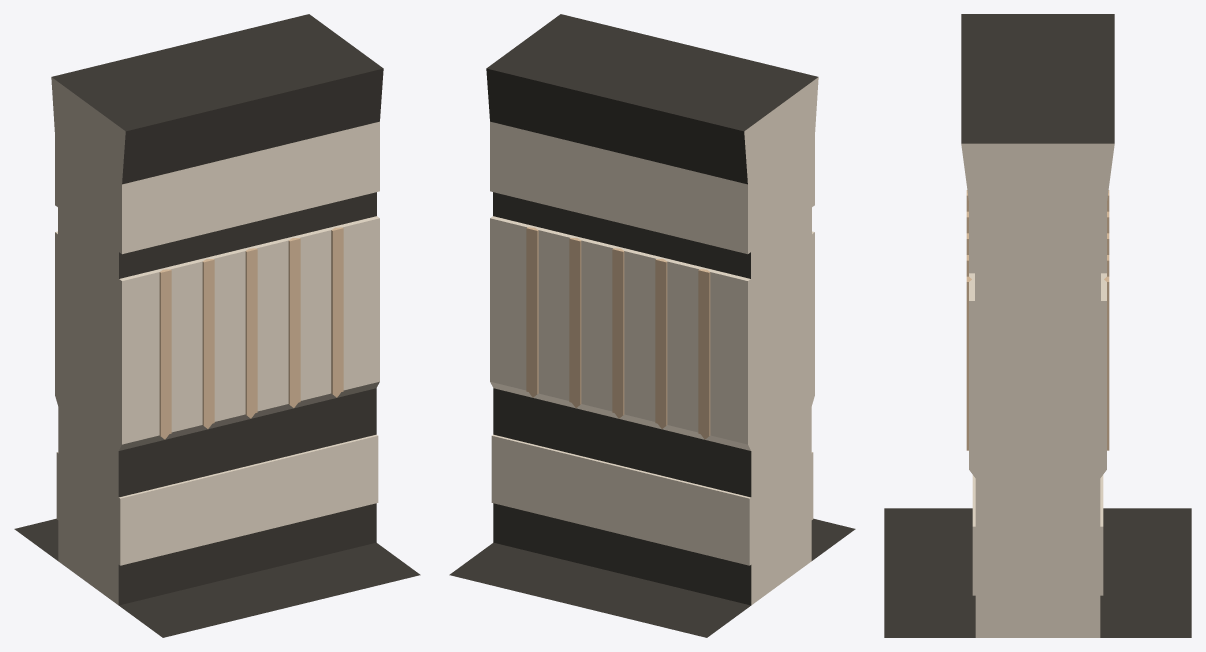
Rendered from 0edge.fbx.
3 views of the same model, side by side, from view 1: azimuth 30°, elevation 25°; view 2: azimuth 150°, elevation 25°; view 3: azimuth 270°, elevation 25° (orthographic). The views are drawn at different scales.
Parts seen in each view (by area): view 1: normal; view 2: normal; view 3: normal.
Part boxes in pixels (box(x1,y1,x2,y2)): normal: box(14, 14, 420, 637); normal: box(449, 14, 855, 637); normal: box(884, 14, 1191, 637).
Size of the model in its own units: 200 by 355 by 200.
